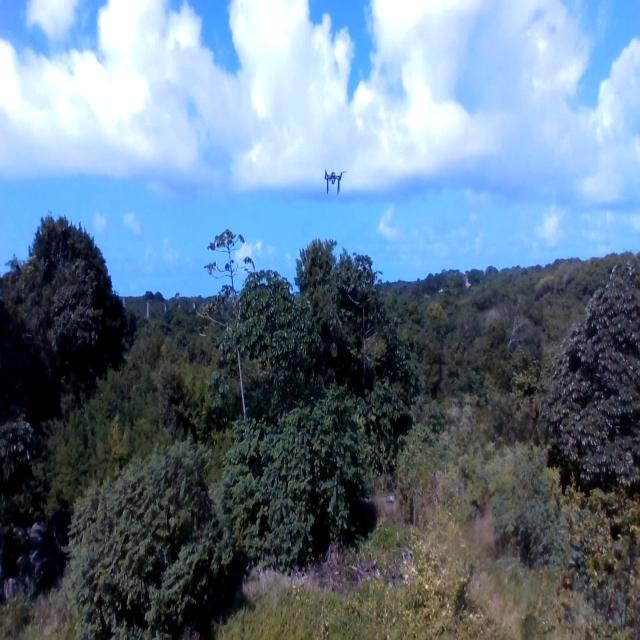-uav-: (321, 161, 347, 200)
